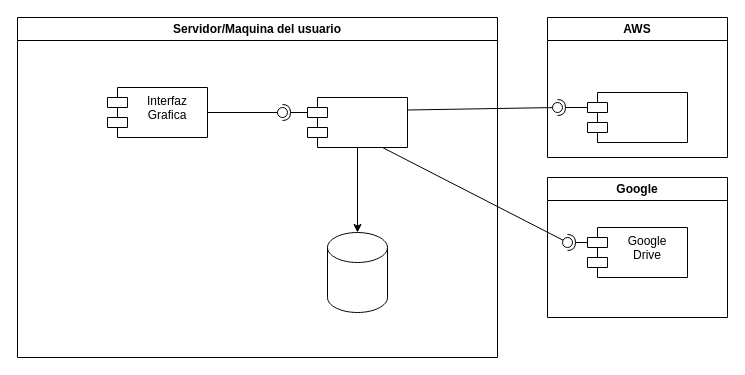
This 745x375 diagram has some shape labels left out. The centre of each missing label's shape, as x and y in pixels:
CloudKeep: the point at 357,122
DB SQLite: the point at 357,272
S3: the point at 637,117
